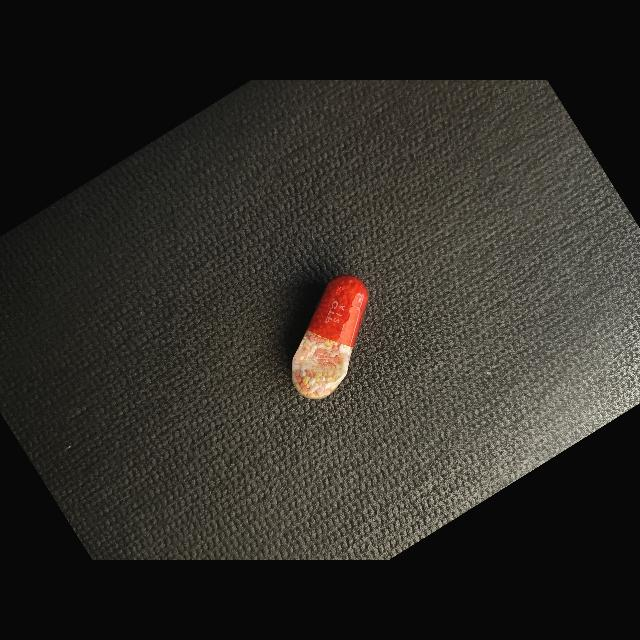Defective Capsule: (292, 275, 368, 399)
